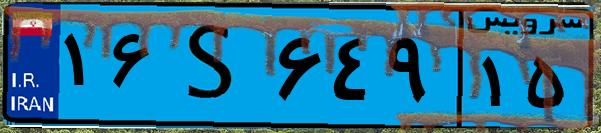1: (57, 26, 110, 100), (475, 38, 525, 113)
4: (330, 28, 385, 110)
5: (525, 38, 570, 115)
6: (270, 28, 330, 110), (110, 28, 158, 98)
9: (385, 28, 445, 110)
S: (158, 12, 270, 120)
